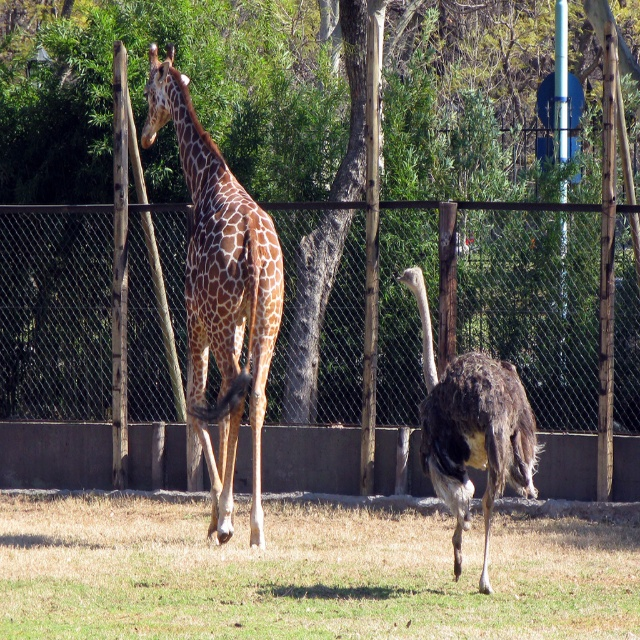Giraffe: (144, 42, 286, 553)
